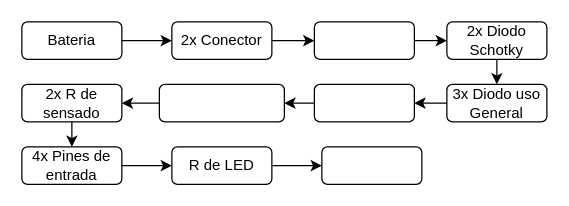
Image size: 569x206. Some labels were removed from this diagram. The box of each missing label's shape, as (x1, y1, x2, y2) in pixels:
LED: (321, 146, 422, 184)
Microcontrolador: (158, 83, 284, 122)
PCB: (313, 21, 414, 59)
RC de reset: (313, 83, 414, 122)
